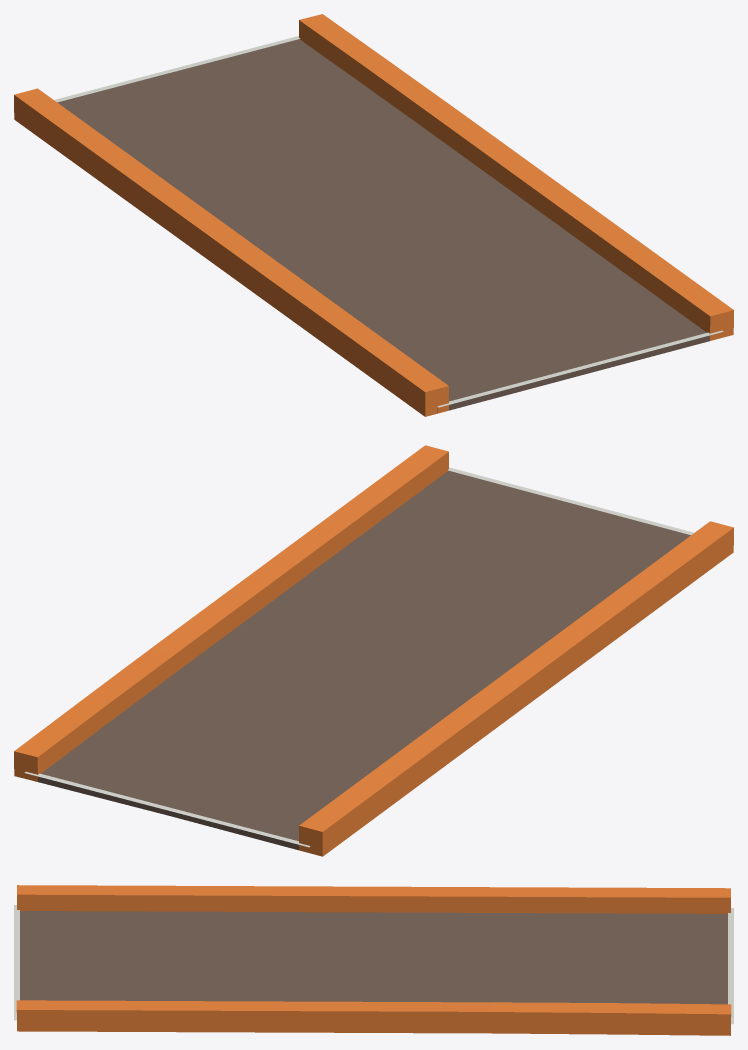
Rendered from SM_MP_Film_C_1_3.fbx.
3 renders of one model, top to bottom at view 1: azimuth 30°, elevation 25°; view 2: azimuth 150°, elevation 25°; view 3: azimuth 270°, elevation 25°, orthographic. The views are drawn at different scales.
Parts seen in each view (by area): view 1: SM_MP_Film_C_1_3; view 2: SM_MP_Film_C_1_3; view 3: SM_MP_Film_C_1_3.
Part boxes in pixels (x1,y1,x2,y2): SM_MP_Film_C_1_3: (14,14,733,416); SM_MP_Film_C_1_3: (14,445,733,856); SM_MP_Film_C_1_3: (14,885,733,1035).
Size of what is drawn, in the model's own units: 260 by 605 by 28.38.
